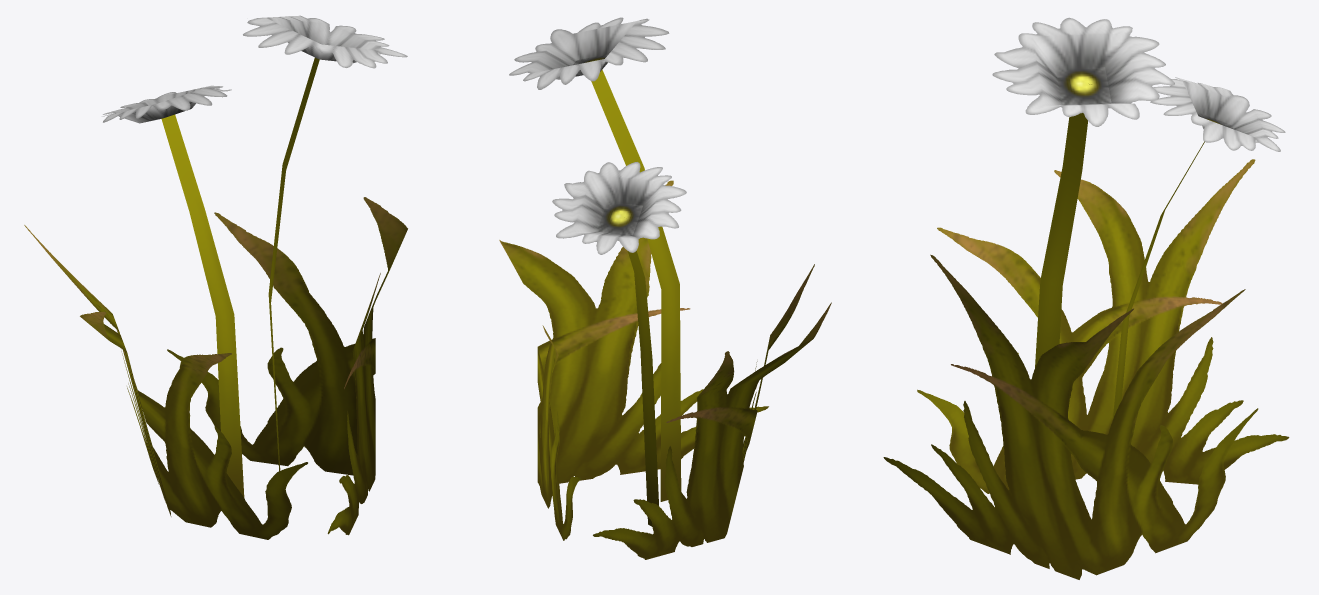
Rendered from flowerG.fbx.
3 renders of one model, left to right at view 1: azimuth 30°, elevation 25°; view 2: azimuth 150°, elevation 25°; view 3: azimuth 270°, elevation 25°, orthographic. The views are drawn at different scales.
Visible parts, largest first — view 1: flowerG; view 2: flowerG; view 3: flowerG.
Part boxes in pixels (bbox=[...]): flowerG: bbox=[24, 15, 407, 539]; flowerG: bbox=[499, 17, 831, 559]; flowerG: bbox=[883, 17, 1289, 579].
Size of the model in its own units: 75.8 by 87.15 by 66.03.
1 material, 1 textured.
